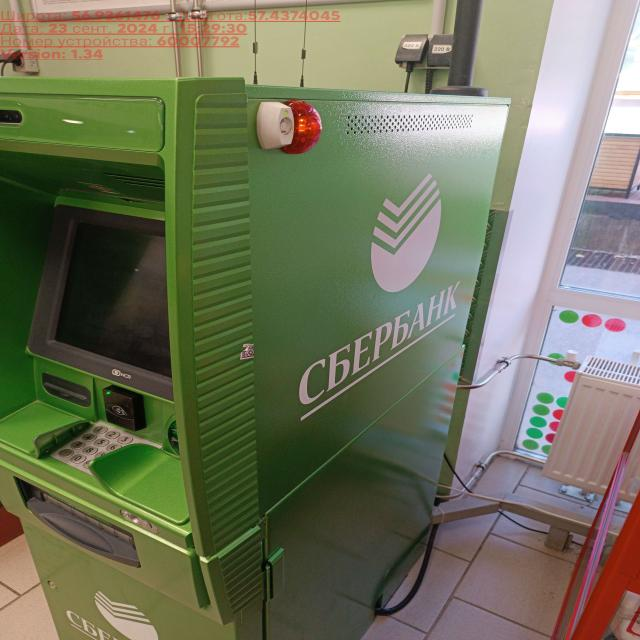bank: (0, 77, 511, 640)
